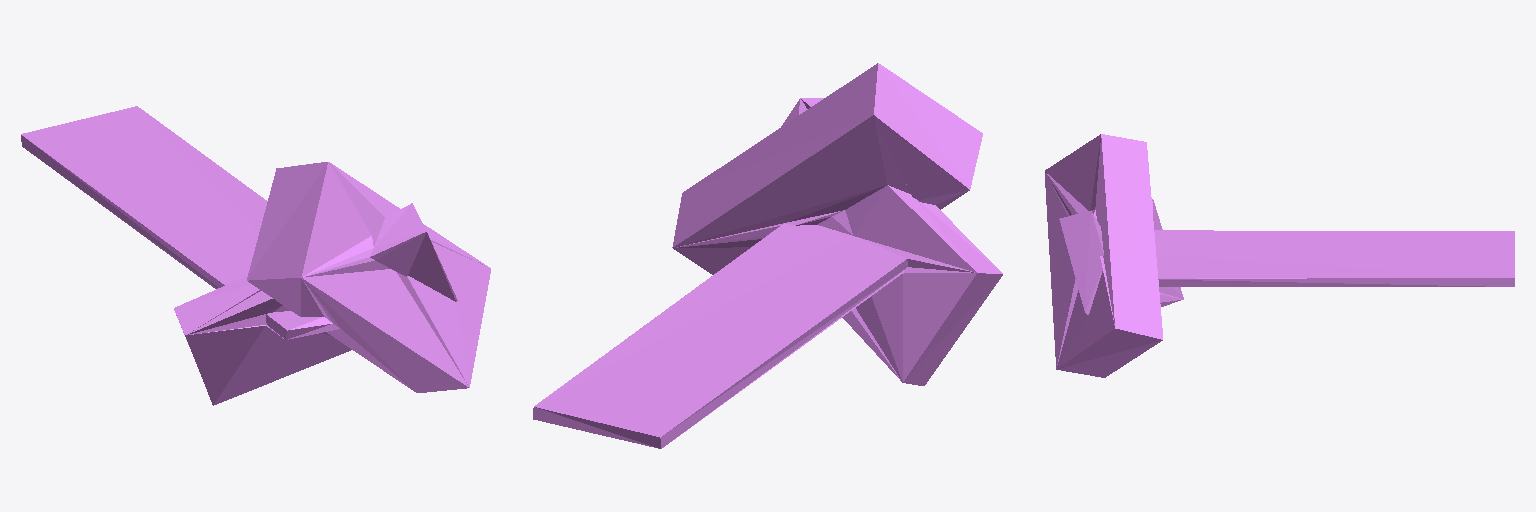
robot.urdf — blob470:

<robot name="blob470">
  <link name="random_obj_470">
    <contact>
      <lateral_friction value="1.0"/>
      <rolling_friction value="0.0"/>
      <inertia_scaling value="3.0"/>
      <contact_cfm value="0.0"/>
      <contact_erp value="1.0"/>
    </contact>
    <inertial>
      <origin rpy="0 0 0" xyz="0 0 0"/>
      <mass value="0.0695"/>
      <inertia ixx="1" ixy="0" ixz="0" iyy="1" iyz="0" izz="0"/>
    </inertial>
    <visual>
      <origin rpy="0 0 0" xyz="0 0 0"/>
      <geometry>
        <mesh filename="470.obj" scale="0.0077 0.0077 0.0077"/>
      </geometry>
      <material name="blockmat">
        <color rgba="0.93 0.62 1.00 1"/>
      </material>
    </visual>
    <collision>
      <origin rpy="0 0 0" xyz="0 0 0"/>
      <geometry>
        <mesh filename="470_coll.obj" scale="0.0077 0.0077 0.0077"/>
      </geometry>
    </collision>
  </link>
</robot>

--- Facts derived from the render (not from the file) ---
3 views of the same robot in one strip: view 1: azimuth 30°, elevation 25°; view 2: azimuth 150°, elevation 25°; view 3: azimuth 270°, elevation 25° (orthographic).
Model blob470 with 1 links and 0 joints (none), rooted at random_obj_470, posed all joints at 0.
Links seen in each view (by area): view 1: random_obj_470; view 2: random_obj_470; view 3: random_obj_470.
Link boxes in pixels (bbox=[...]): random_obj_470: bbox=[21, 106, 490, 405]; random_obj_470: bbox=[533, 63, 1002, 448]; random_obj_470: bbox=[1045, 134, 1514, 377].
Size in the robot's own frame: 0.0611 by 0.1017 by 0.0496 metres.
1 mesh visuals loaded from 1 distinct referenced files (1 OBJ).
